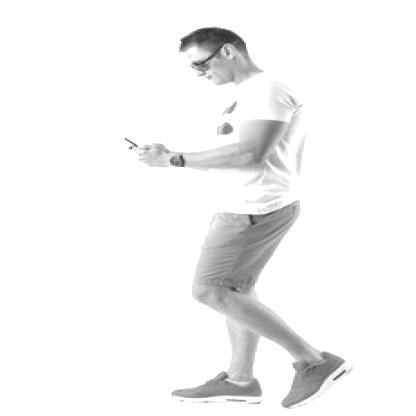jean: (121, 21, 356, 416)
